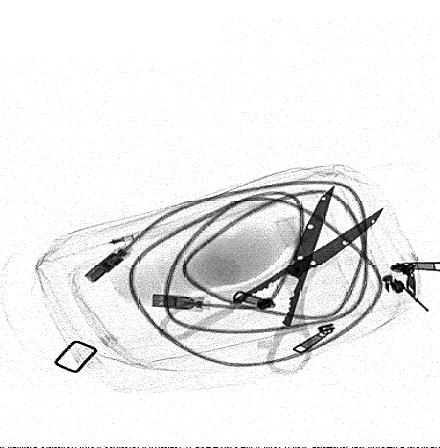Scissors: (153, 181, 386, 377)
